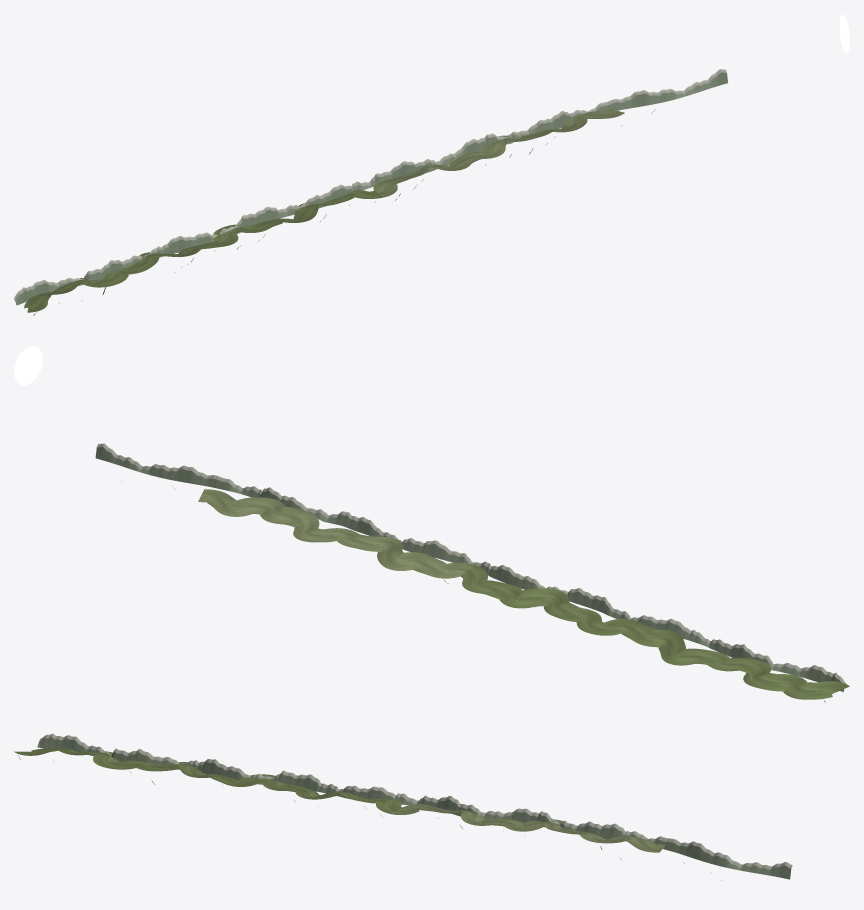
File: angliru.glb
3 renders of one model, top to bottom at view 1: azimuth 30°, elevation 25°; view 2: azimuth 150°, elevation 25°; view 3: azimuth 330°, elevation 25°, orthographic. The views are drawn at different scales.
Visible parts, largest first — view 1: Peaks; view 2: Peaks, Sun, Land_001, Land_000, Land_012, Land_005, Land_016, Land_008, Land_009, Land_015, Land_011, Land_004 (+4 smaller); view 3: Peaks, Land_002, Land_014, Land_013, Land_007, Land_003, Land_011.
Part boxes in pixels (bbox=[...]): Peaks: bbox=[14, 69, 727, 315]; Peaks: bbox=[95, 443, 845, 702]; Sun: bbox=[14, 346, 42, 385]; Land_001: bbox=[744, 672, 806, 694]; Land_000: bbox=[786, 681, 849, 699]; Land_012: bbox=[378, 550, 432, 572]; Land_005: bbox=[622, 622, 677, 647]; Land_016: bbox=[259, 497, 302, 525]; Land_008: bbox=[523, 588, 568, 614]; Land_009: bbox=[487, 581, 533, 608]; Land_015: bbox=[290, 510, 322, 542]; Land_011: bbox=[419, 557, 475, 578]; Land_004: bbox=[658, 634, 694, 665]; Peaks: bbox=[18, 733, 792, 880]; Land_002: bbox=[93, 754, 135, 769]; Land_014: bbox=[499, 819, 544, 831]; Land_013: bbox=[461, 812, 504, 825]; Land_007: bbox=[262, 780, 312, 791]; Land_003: bbox=[129, 760, 179, 771]; Land_011: bbox=[388, 804, 441, 814].
Bounding box in the file's own units: 19832 × 2865 × 2294.
